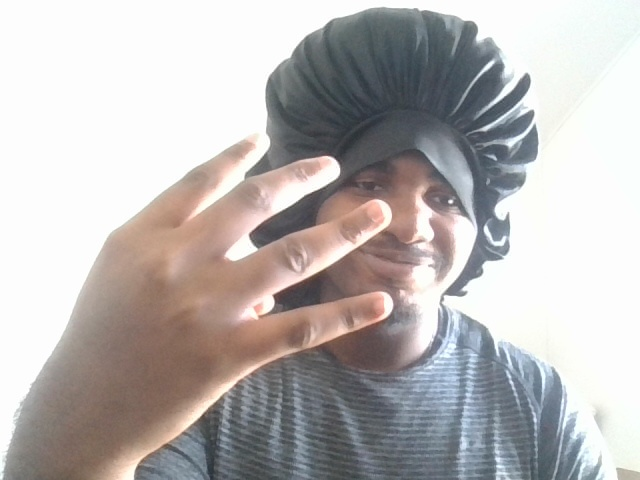I am Better Than Yu: (34, 119, 399, 435)
